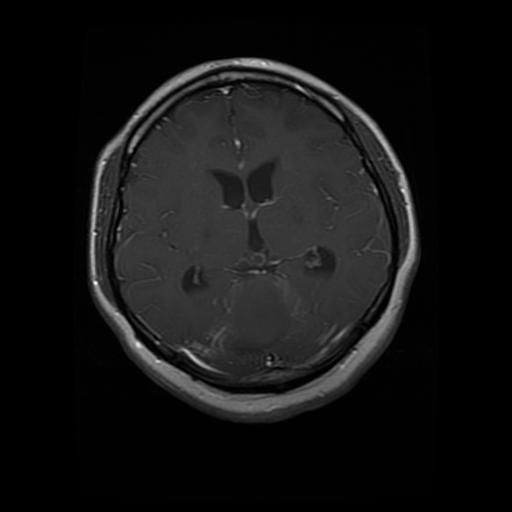Gliomia_tumour: (198, 273, 344, 375)
